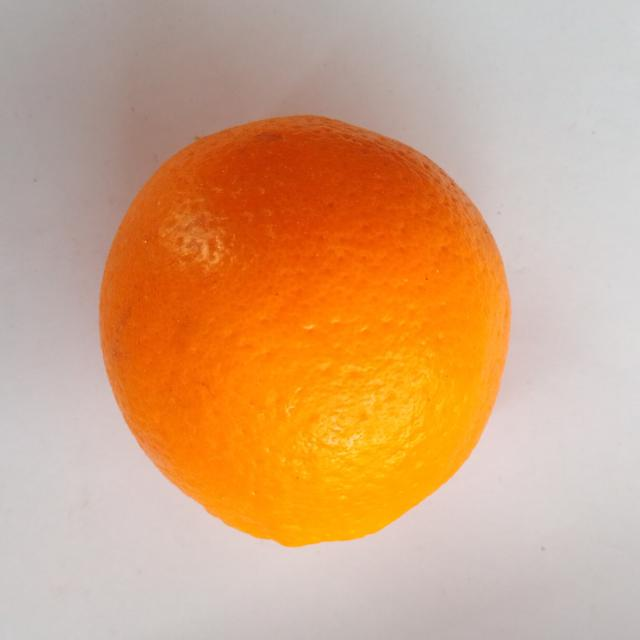orange: (101, 116, 509, 545)
